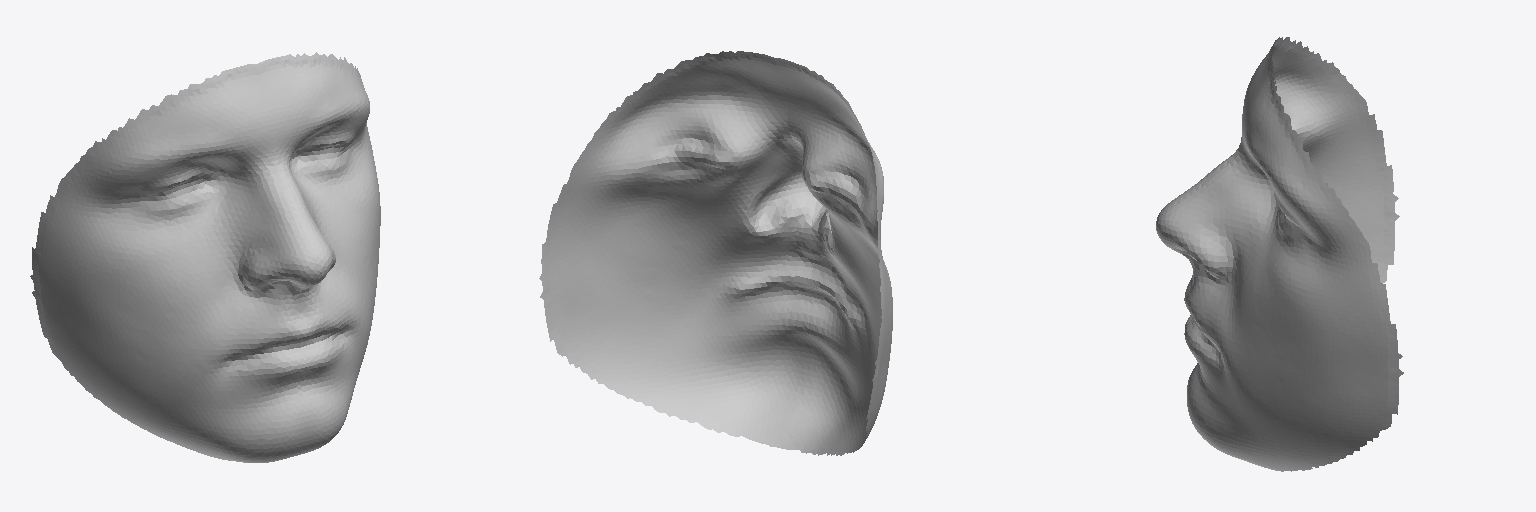
Rendered from SIMPOP_11.obj.
The picture shows the model from 3 angles: view 1: azimuth 30°, elevation 25°; view 2: azimuth 150°, elevation 25°; view 3: azimuth 270°, elevation 25°; orthographic projection.
Parts seen in each view (by area): view 1: SIMPOP_11; view 2: SIMPOP_11; view 3: SIMPOP_11.
Boxes of the visible parts, box(x1,y1,x2,y2) form: SIMPOP_11: box(30, 52, 380, 462); SIMPOP_11: box(539, 51, 892, 455); SIMPOP_11: box(1156, 37, 1403, 471).
Bounding box in the file's own units: 153 × 172 × 98.04.